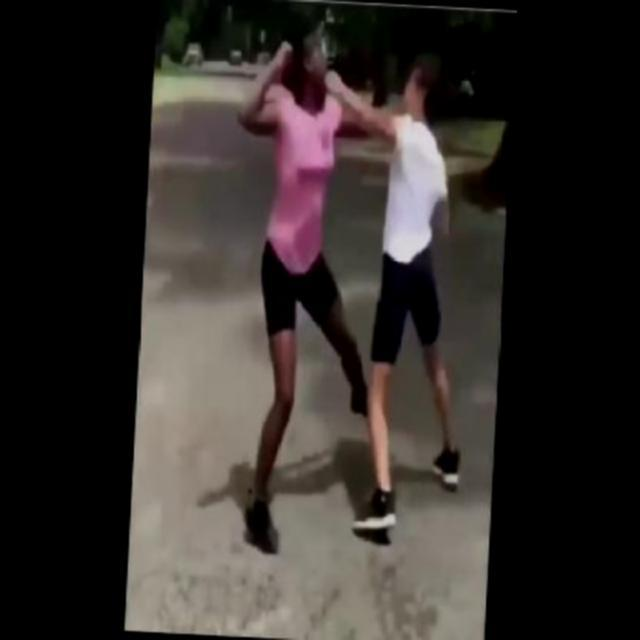fight: (213, 24, 484, 570)
